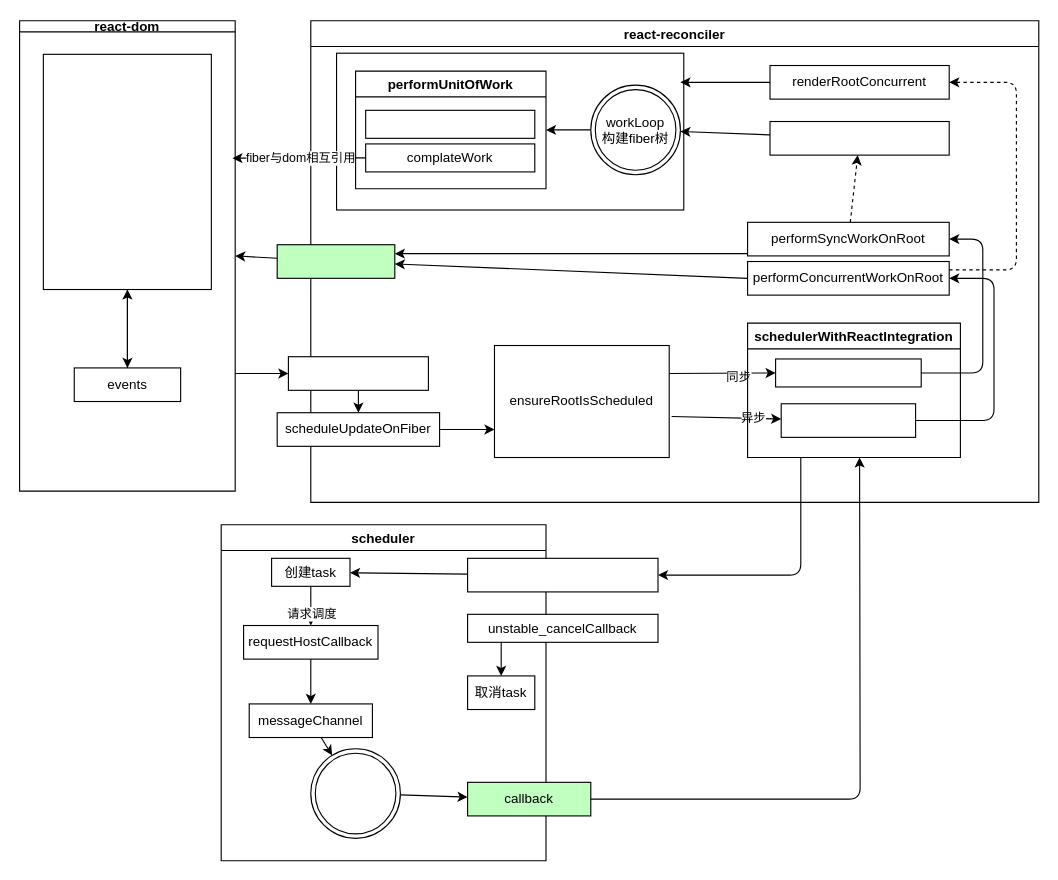
Image size: 1058x880. Some labels were removed from this diagram. The shapes that lost their labels are listed below. From the top down, each one's centre as x and y in pixels, then its label:
pixel 450 123: beginWork
pixel 859 137: renderRootSync
pixel 126 171: ReactDOMHostConfig
pixel 335 261: commitRoot
pixel 357 373: updateContainer
pixel 847 372: scheduleSyncCallback
pixel 848 420: scheduleCallback
pixel 562 574: unstable_scheduleCallback
pixel 355 793: workLoop 任务调度
